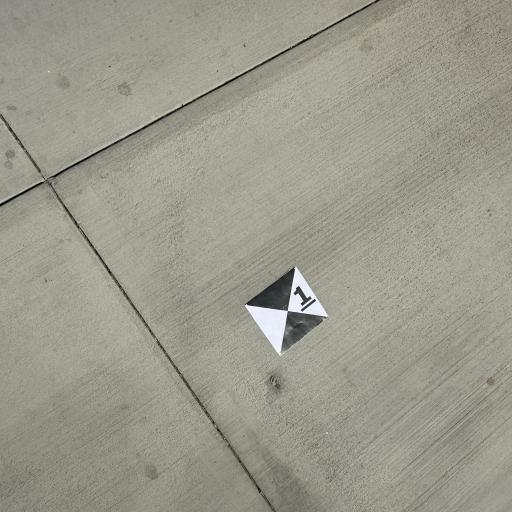target1: (242, 263, 332, 358)
